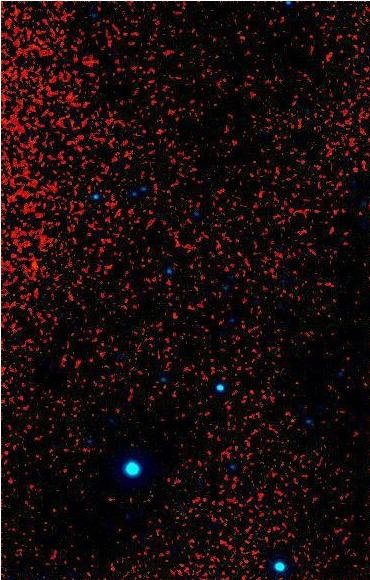star: (26, 249, 56, 279)
